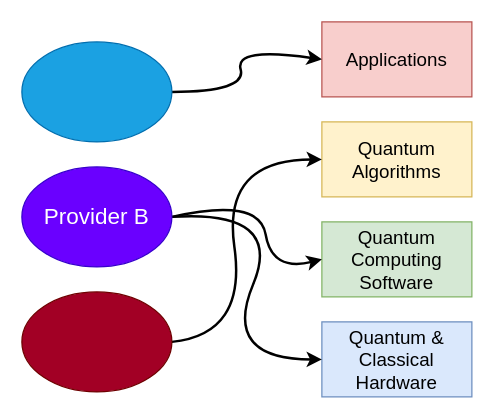
Image size: 494x419. Some labels were removed from this diagram. Here are the shapes that lost their labels. From the top down, the box of each, then its label:
(21, 41, 172, 142): Provider A
(21, 291, 172, 392): Provider C
